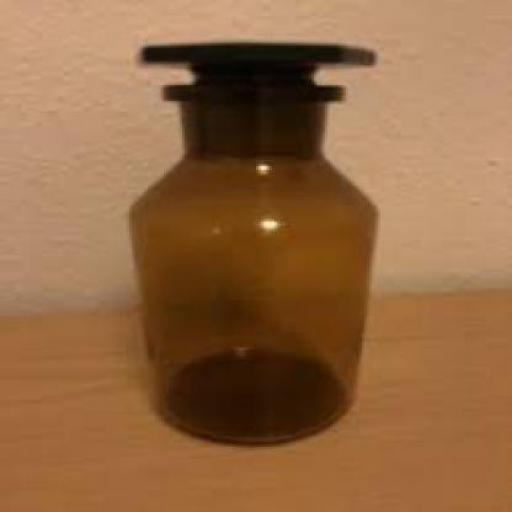glass: (121, 42, 380, 448)
